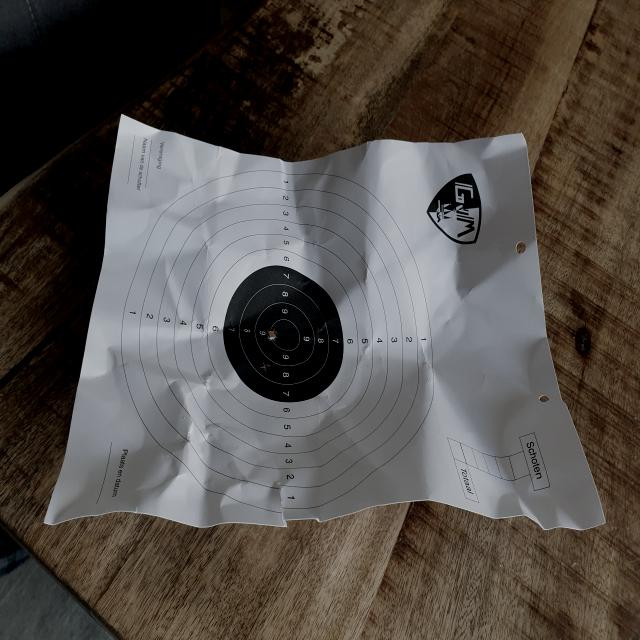10: (266, 328, 278, 342)
8: (259, 360, 275, 375)
Target: (119, 170, 435, 513)
black_contour: (222, 266, 344, 403)
